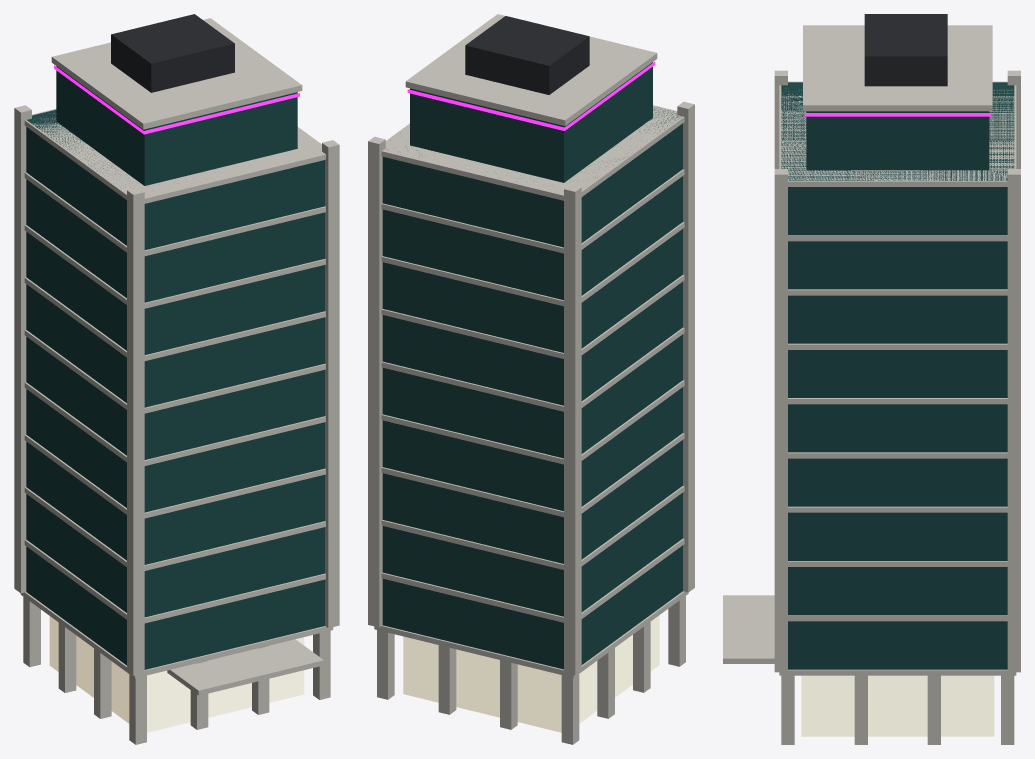
Rendered from bld_office_02.glb.
3 views of the same model, side by side, from view 1: azimuth 30°, elevation 25°; view 2: azimuth 150°, elevation 25°; view 3: azimuth 270°, elevation 25° (orthographic). The views are drawn at different scales.
Parts seen in each view (by area): view 1: bld_office_02; view 2: bld_office_02; view 3: bld_office_02.
Part boxes in pixels (x1,y1,x2,y2): bld_office_02: (14,14,339,744); bld_office_02: (368,14,694,744); bld_office_02: (723,14,1020,744).
Size of what is drawn, in the model's own units: 14.8 by 43.8 by 17.9.
